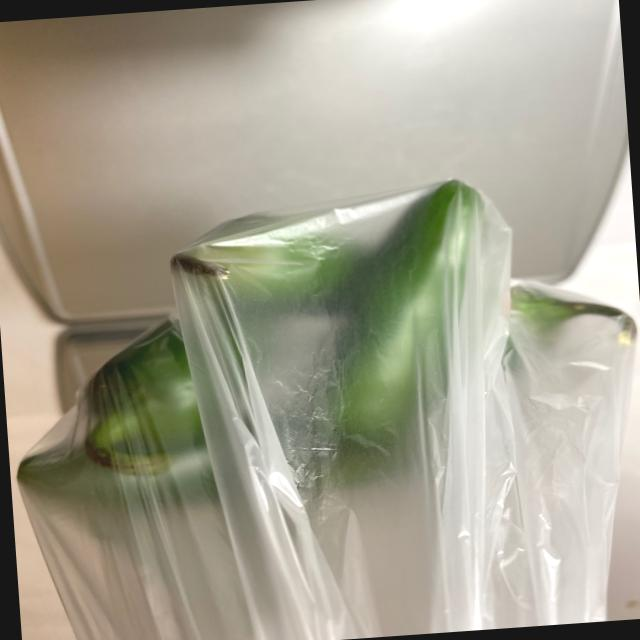chilli: (3, 160, 640, 537)
